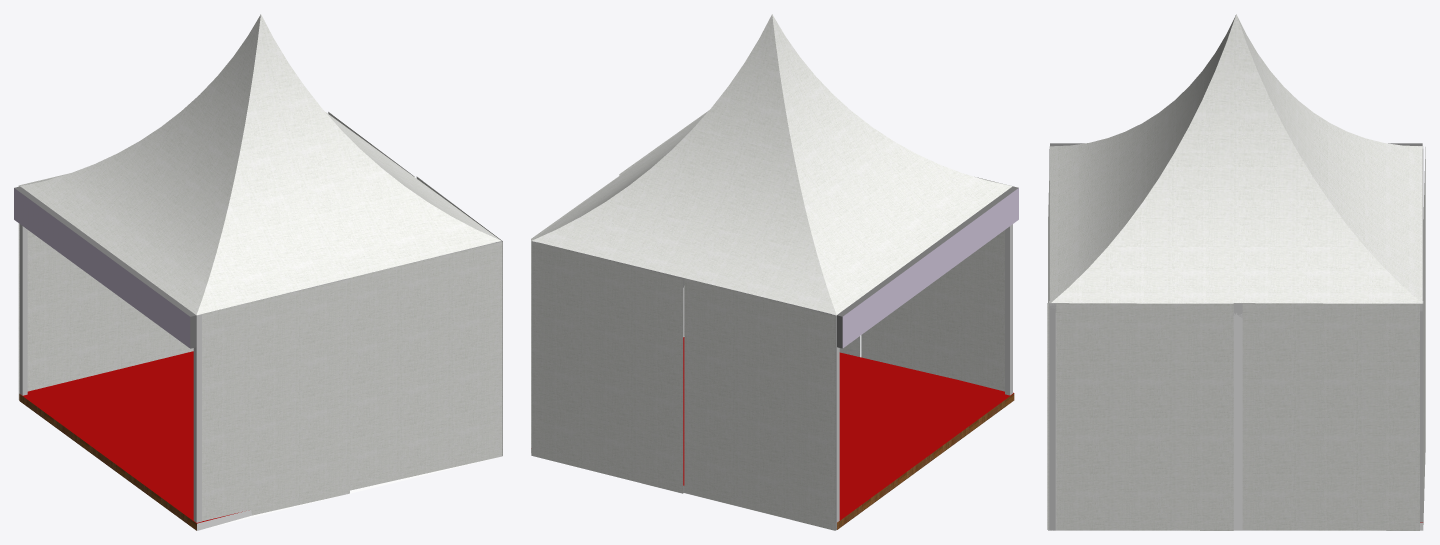
Rendered from tenda_3x3.glb.
The picture shows the model from 3 angles, left to right: view 1: azimuth 30°, elevation 25°; view 2: azimuth 150°, elevation 25°; view 3: azimuth 270°, elevation 25°; orthographic projection. The views are drawn at different scales.
Visible parts, largest first — view 1: Object_17, Object_3, Object_6, Object_11, Object_8, Object_7, Object_13; view 2: Object_17, Object_3, Object_6, Object_11, Object_8, Object_7; view 3: Object_17, Object_13, Object_12, Object_11.
Boxes of the visible parts, box(x1,y1,x2,y2) form: Object_17: box(18, 14, 502, 521); Object_3: box(20, 351, 242, 523); Object_6: box(14, 188, 190, 348); Object_11: box(19, 185, 496, 522); Object_8: box(19, 394, 196, 530); Object_7: box(14, 186, 196, 348); Object_13: box(197, 458, 493, 530); Object_17: box(531, 14, 1012, 530); Object_3: box(683, 337, 1013, 522); Object_6: box(842, 188, 1018, 348); Object_11: box(537, 185, 1012, 529); Object_8: box(837, 393, 1014, 529); Object_7: box(837, 186, 1018, 348); Object_17: box(1047, 14, 1425, 530); Object_13: box(1048, 313, 1423, 530); Object_12: box(1049, 301, 1423, 530); Object_11: box(1049, 146, 1423, 317).
Size of the model in its own units: 3.07 by 3.88 by 3.03.
Materials: 16 (2 with a texture image).
